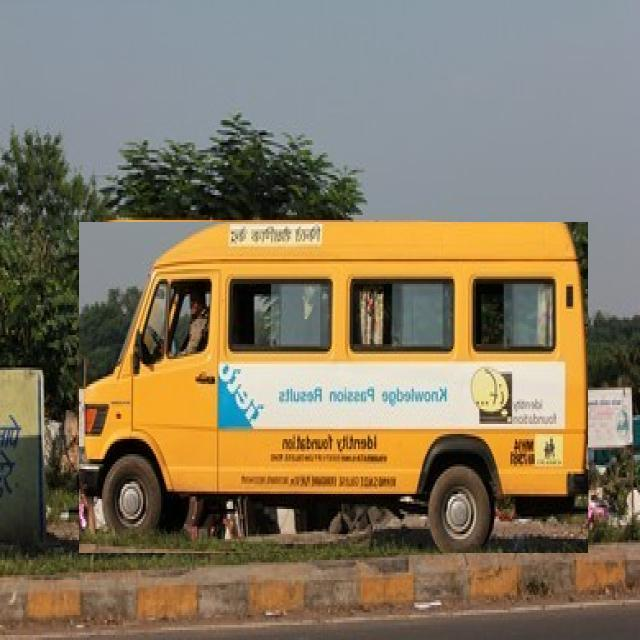bus: (80, 223, 588, 553)
